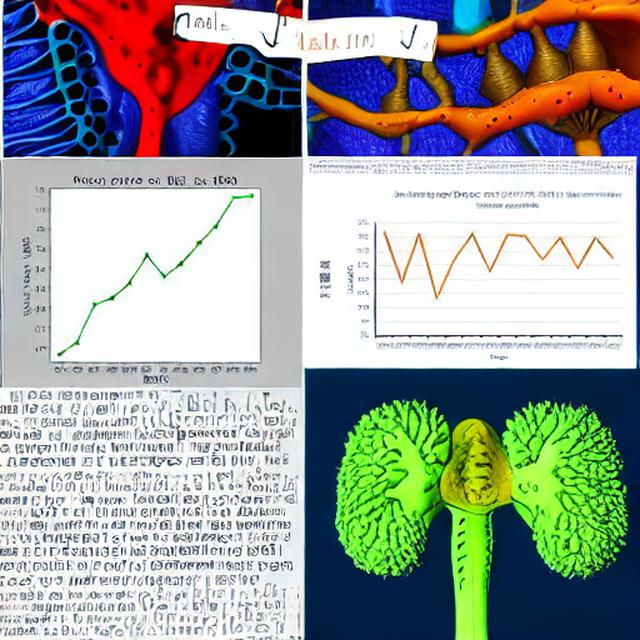Graph: (1, 161, 302, 387), (341, 185, 628, 365), (289, 21, 346, 54)
